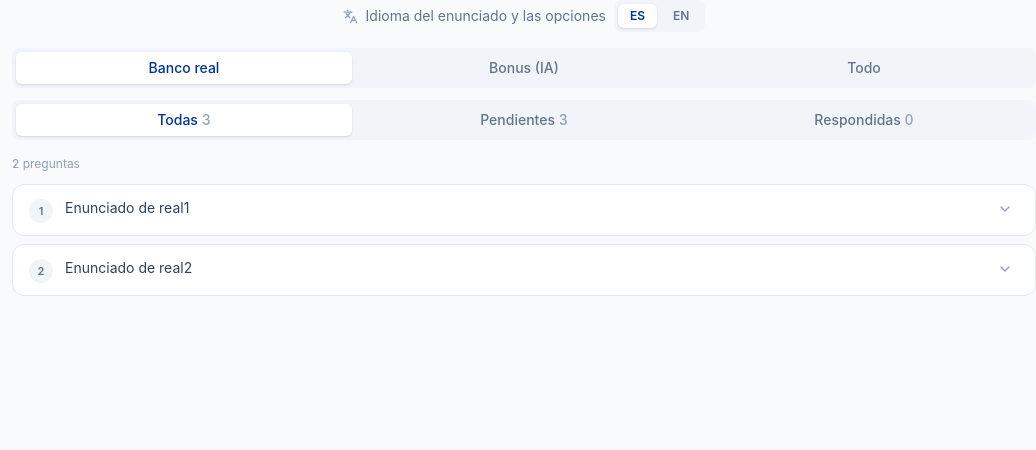
Test case: acordeón › volver a pulsar la cierra
Step 1. Click the button named "Abrir la pregunta" in the row of "Enunciado de real1" → {"x": 1005, "y": 209}, box x1=991 y1=195 x2=1019 y2=223
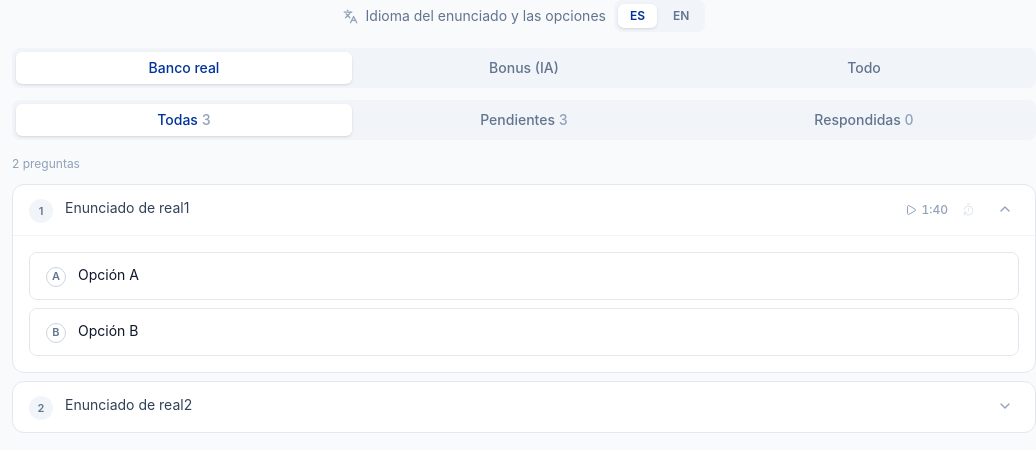
Step 2. Click the button named "Plegar la pregunta" → {"x": 1005, "y": 209}, box x1=991 y1=195 x2=1019 y2=223
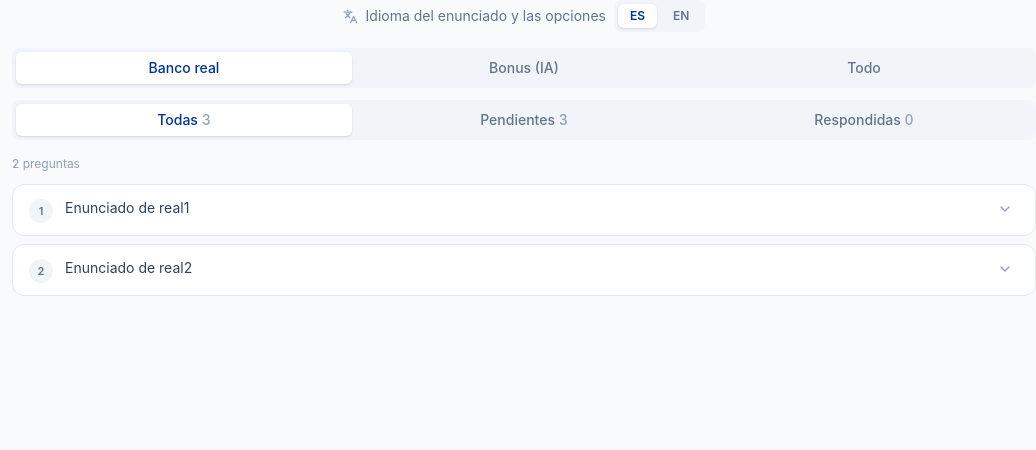
Check: the button "Opción A" is gone
